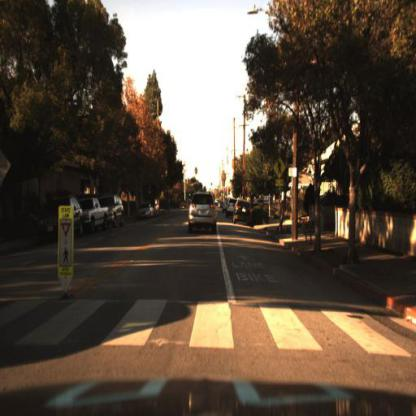car: (35, 194, 84, 245), (39, 196, 84, 243), (187, 191, 219, 235), (80, 197, 110, 239), (80, 196, 110, 231), (230, 197, 255, 229), (104, 195, 125, 230), (134, 200, 157, 224)
